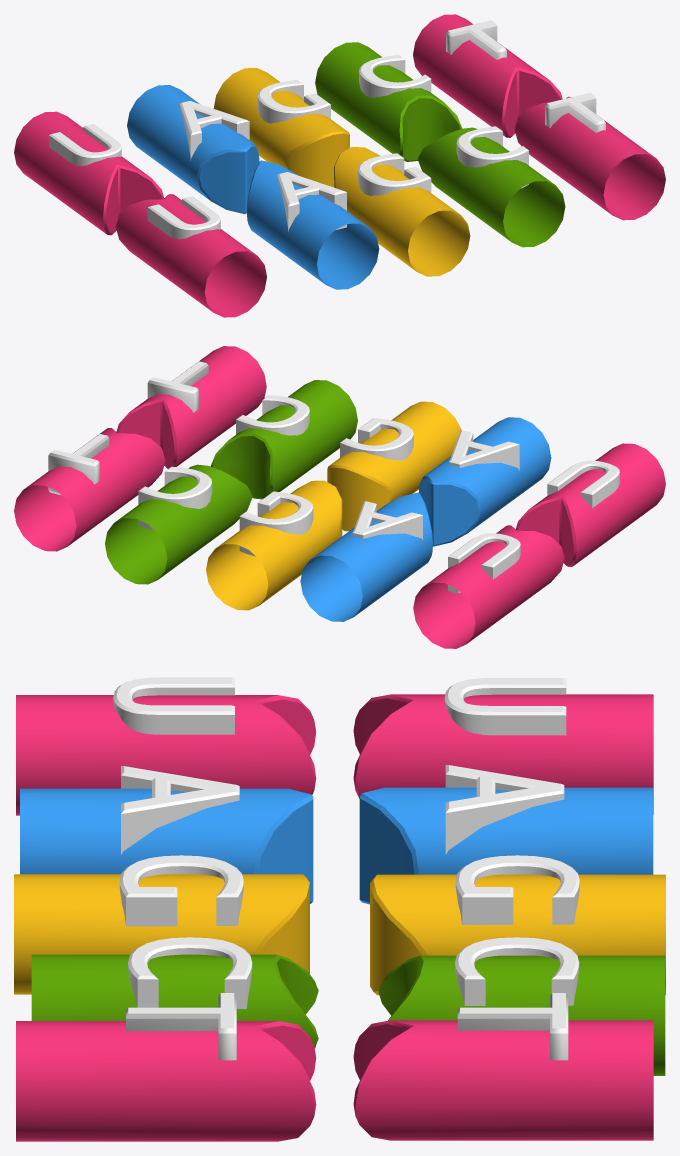
Rendered from nucleotides.fbx.
The picture shows the model from 3 angles, top to bottom: view 1: azimuth 30°, elevation 25°; view 2: azimuth 150°, elevation 25°; view 3: azimuth 270°, elevation 25°; orthographic projection. The views are drawn at different scales.
Parts seen in each view (by area): view 1: Nucleotide_U_Rev, Nucleotide_T_Rev, Nucleotide_C_Rev, Nucleotide_A_Rev, Nucleotide_G_Rev, Nucleotide_A, Nucleotide_C, Nucleotide_U, Nucleotide_T, Nucleotide_G; view 2: Nucleotide_U, Nucleotide_T, Nucleotide_G, Nucleotide_C, Nucleotide_A, Nucleotide_C_Rev, Nucleotide_A_Rev, Nucleotide_U_Rev, Nucleotide_T_Rev, Nucleotide_G_Rev; view 3: Nucleotide_T_Rev, Nucleotide_T, Nucleotide_U_Rev, Nucleotide_U, Nucleotide_A, Nucleotide_A_Rev, Nucleotide_G, Nucleotide_G_Rev, Nucleotide_C, Nucleotide_C_Rev.
Part boxes in pixels (<box>): Nucleotide_U_Rev: <box>115,194,266,317</box>; Nucleotide_T_Rev: <box>514,92,665,220</box>; Nucleotide_C_Rev: <box>417,126,565,247</box>; Nucleotide_A_Rev: <box>246,160,379,289</box>; Nucleotide_G_Rev: <box>334,147,470,276</box>; Nucleotide_A: <box>127,85,259,214</box>; Nucleotide_C: <box>315,42,462,161</box>; Nucleotide_U: <box>14,111,164,235</box>; Nucleotide_T: <box>413,14,562,137</box>; Nucleotide_G: <box>213,68,349,187</box>; Nucleotide_U: <box>413,525,564,648</box>; Nucleotide_T: <box>14,428,165,551</box>; Nucleotide_G: <box>206,480,342,610</box>; Nucleotide_C: <box>105,464,252,584</box>; Nucleotide_A: <box>300,492,432,621</box>; Nucleotide_C_Rev: <box>210,380,357,499</box>; Nucleotide_A_Rev: <box>419,417,551,546</box>; Nucleotide_U_Rev: <box>515,443,665,566</box>; Nucleotide_T_Rev: <box>116,346,266,468</box>; Nucleotide_G_Rev: <box>327,401,461,531</box>; Nucleotide_T_Rev: <box>16,993,316,1141</box>; Nucleotide_T: <box>353,993,653,1140</box>; Nucleotide_U_Rev: <box>16,677,316,815</box>; Nucleotide_U: <box>353,678,653,814</box>; Nucleotide_A: <box>359,765,653,904</box>; Nucleotide_A_Rev: <box>20,766,313,903</box>; Nucleotide_G: <box>370,855,665,995</box>; Nucleotide_G_Rev: <box>14,855,309,994</box>; Nucleotide_C: <box>378,937,665,1075</box>; Nucleotide_C_Rev: <box>31,937,318,1048</box>.
Bounding box in the file's own units: 12.08 × 2.06 × 8.83.
